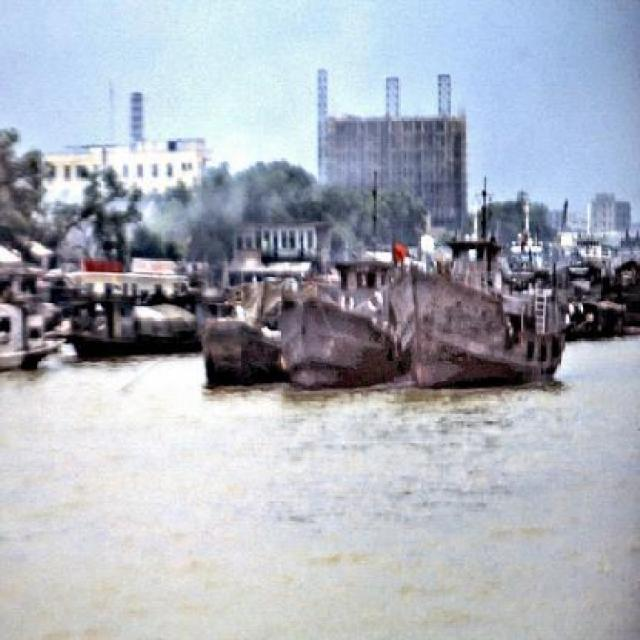ship: (399, 238, 563, 384), (278, 243, 398, 388), (195, 269, 279, 388), (64, 323, 202, 360)
